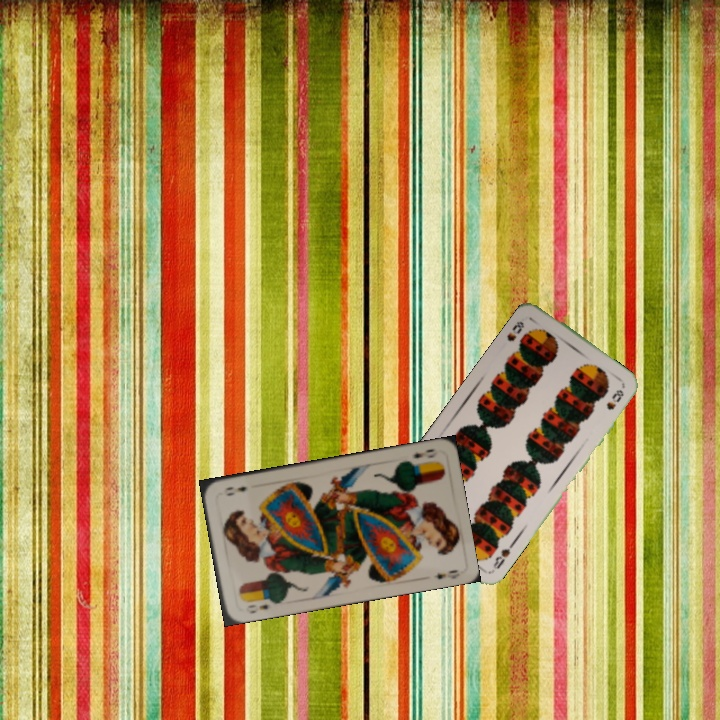EO: (409, 445, 441, 461), (243, 600, 272, 616)
S8: (489, 538, 518, 572), (503, 317, 527, 344)
